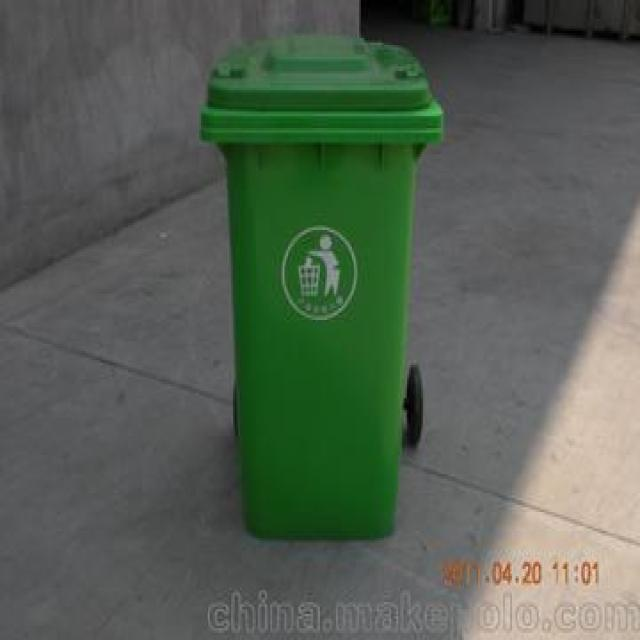garbage_bin: (197, 31, 441, 538)
